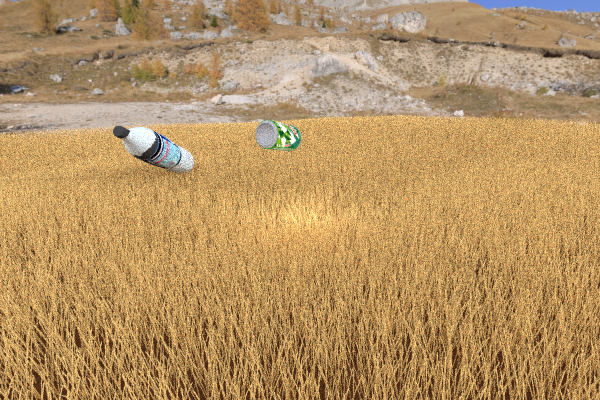bottle: (112, 125, 194, 174)
can: (275, 130, 384, 193), (255, 119, 301, 151)
